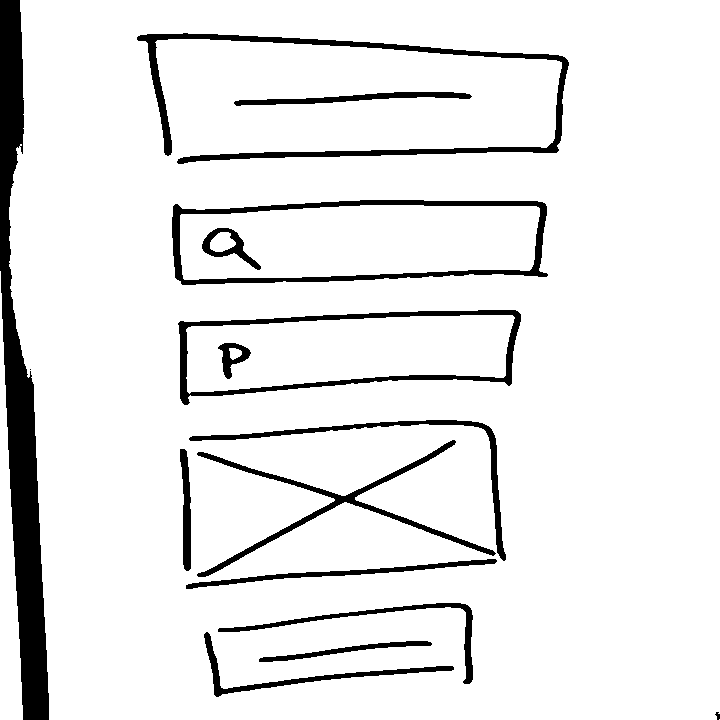button: (131, 28, 573, 169), (192, 599, 481, 697)
paragraph: (169, 308, 523, 402)
picture: (174, 415, 511, 591)
search bar: (165, 193, 555, 289)
